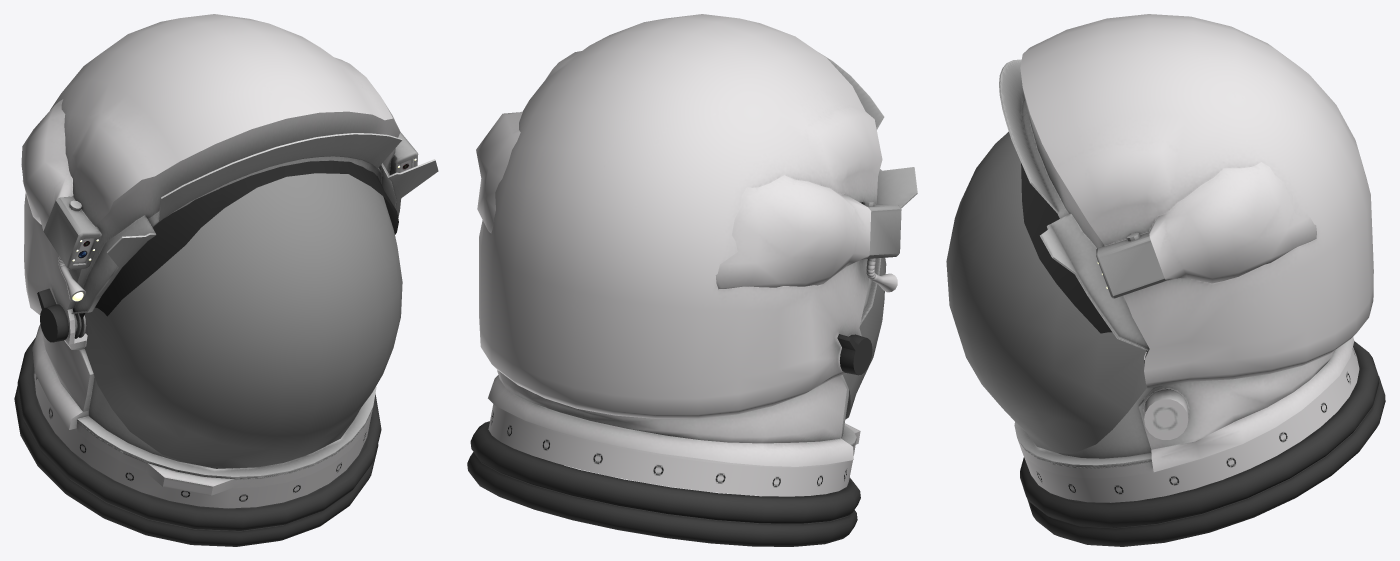
Rendered from Helmet.fbx.
3 renders of one model, left to right at view 1: azimuth 30°, elevation 25°; view 2: azimuth 150°, elevation 25°; view 3: azimuth 270°, elevation 25°, orthographic. The views are drawn at different scales.
Visible parts, largest first — view 1: Helmet-Body, Black-one; view 2: Helmet-Body; view 3: Helmet-Body, Black-one.
Boxes of the visible parts, x1=… form: Helmet-Body: x1=14, y1=14, x2=438, y2=546; Black-one: x1=79, y1=160, x2=398, y2=318; Helmet-Body: x1=467, y1=14, x2=917, y2=546; Helmet-Body: x1=946, y1=14, x2=1385, y2=546; Black-one: x1=1021, y1=163, x2=1147, y2=351.
Size of the model in its own units: 29.92 by 37.87 by 31.84.
Materials: 3 (1 with a texture image).
